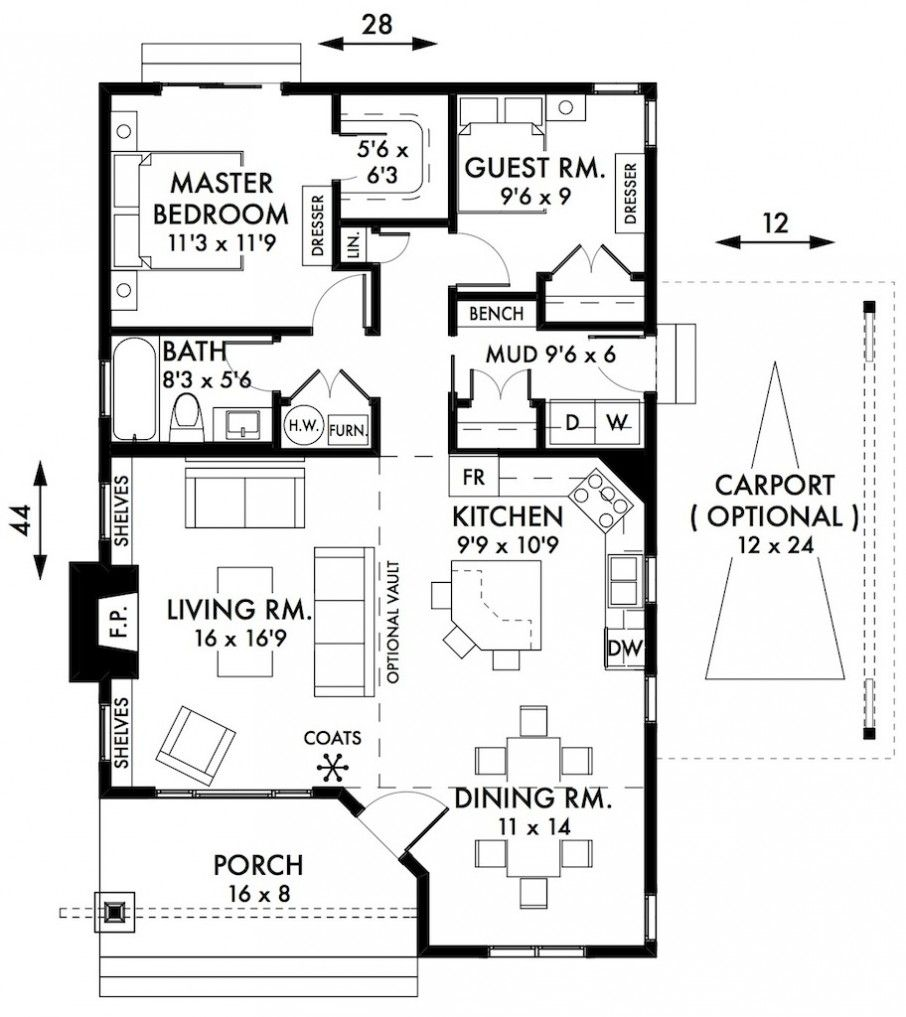door: (463, 231, 514, 287), (307, 275, 369, 318), (466, 366, 537, 393)
room: (101, 443, 382, 800), (448, 451, 660, 793), (99, 80, 381, 337), (446, 83, 655, 333), (408, 784, 663, 960), (102, 327, 384, 460), (446, 324, 664, 456)
window: (193, 789, 270, 800), (537, 945, 584, 963), (490, 945, 538, 962), (643, 672, 657, 719), (645, 559, 661, 598), (646, 896, 660, 939)
